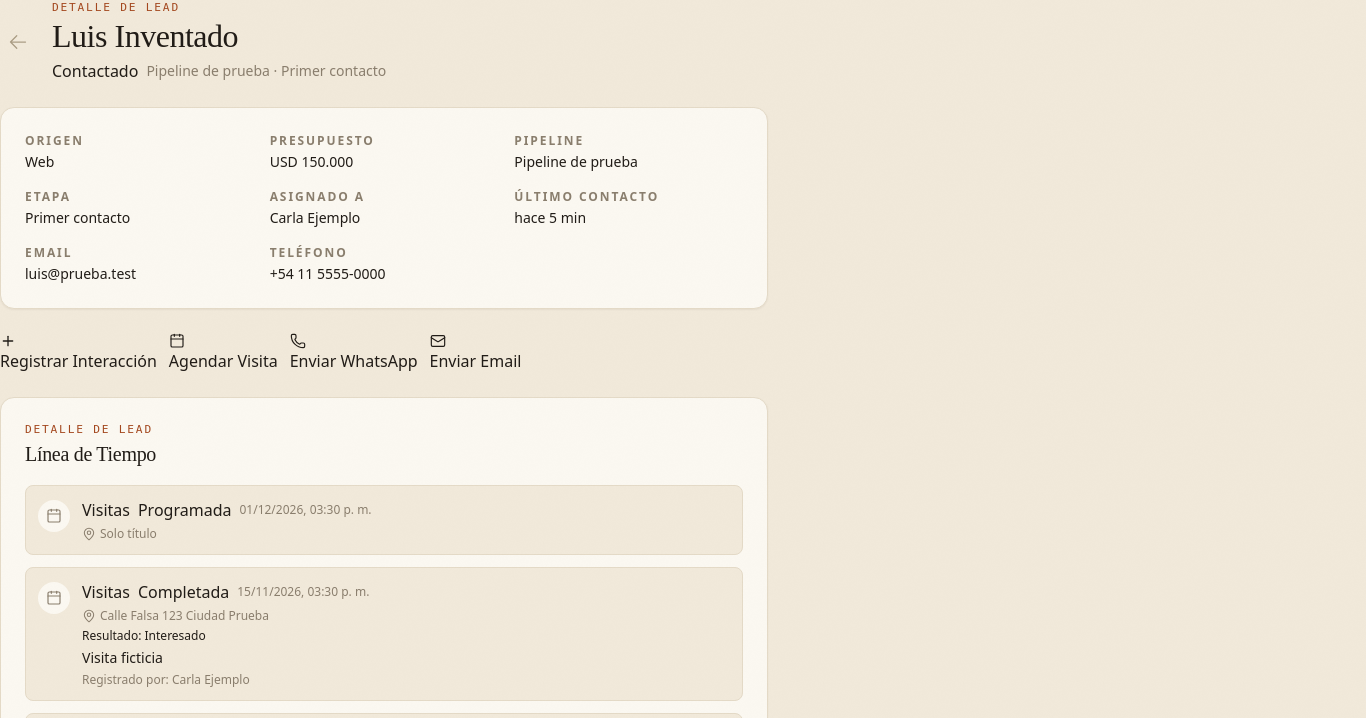
it: LeadDetailPage › agenda una visita
Expected: the heading "Luis Inventado" is shown, 52,18 -> 238,54
Step 1. Click the button "Agendar Visita" → click(223, 353), box 169,333 -> 278,373
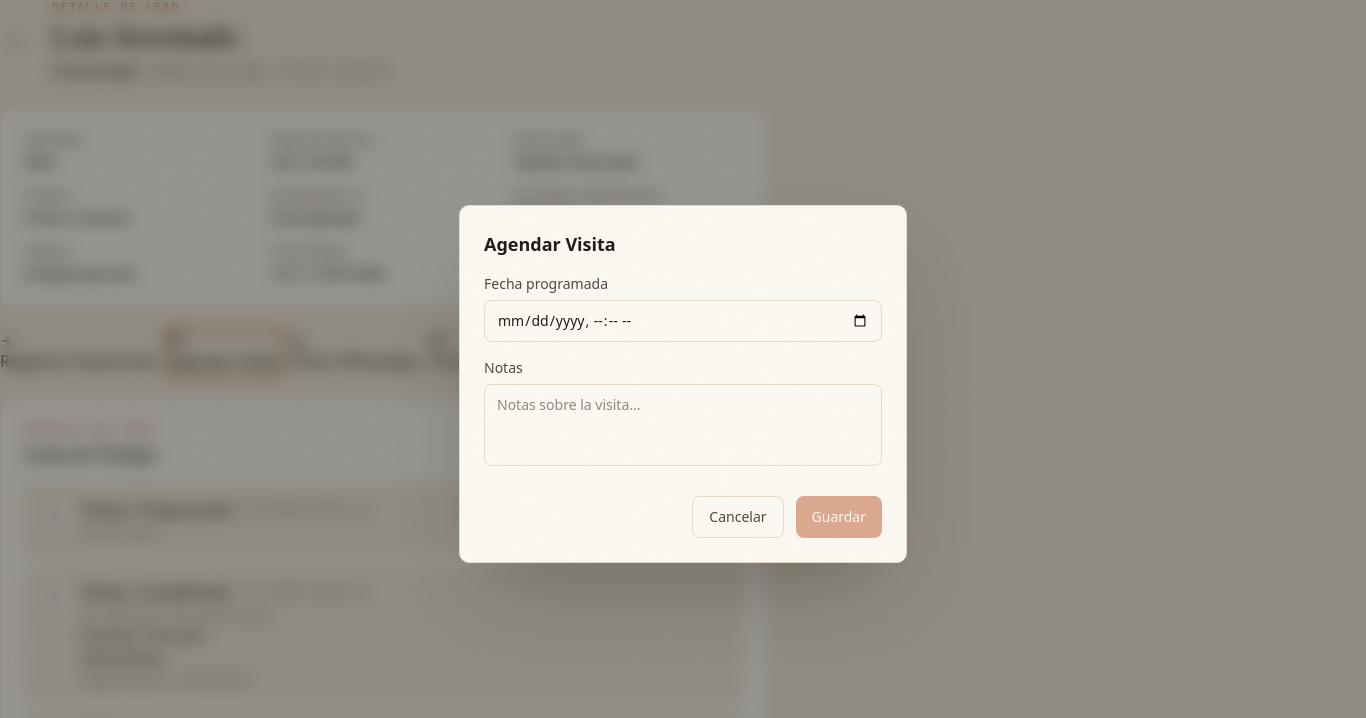
Now the button "Guardar" is disabled, box 796,496 -> 882,538
Step 2. Type "2026-12-10T10:00" into the field → (683, 321), box 484,300 -> 882,342
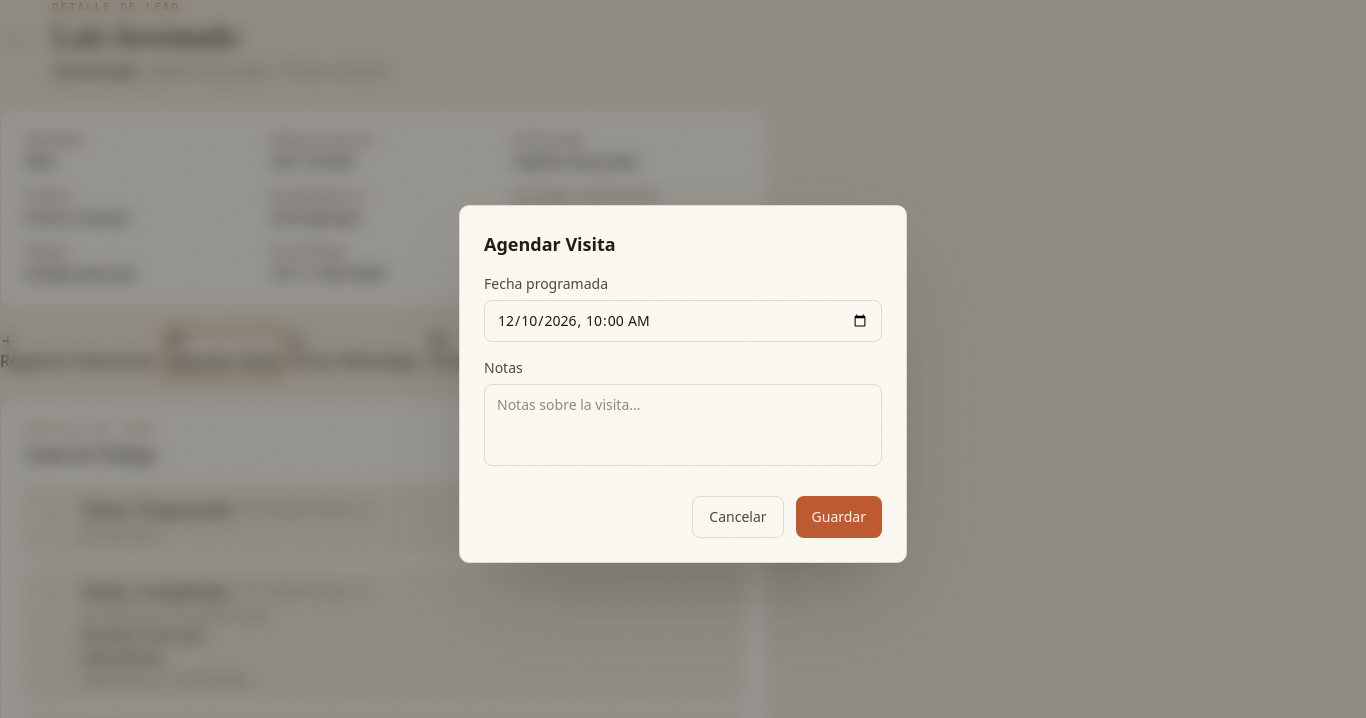
Step 3. Type "Traer llaves" into the text box with placeholder "Notas sobre la visita..." → (683, 425), box 484,384 -> 882,466
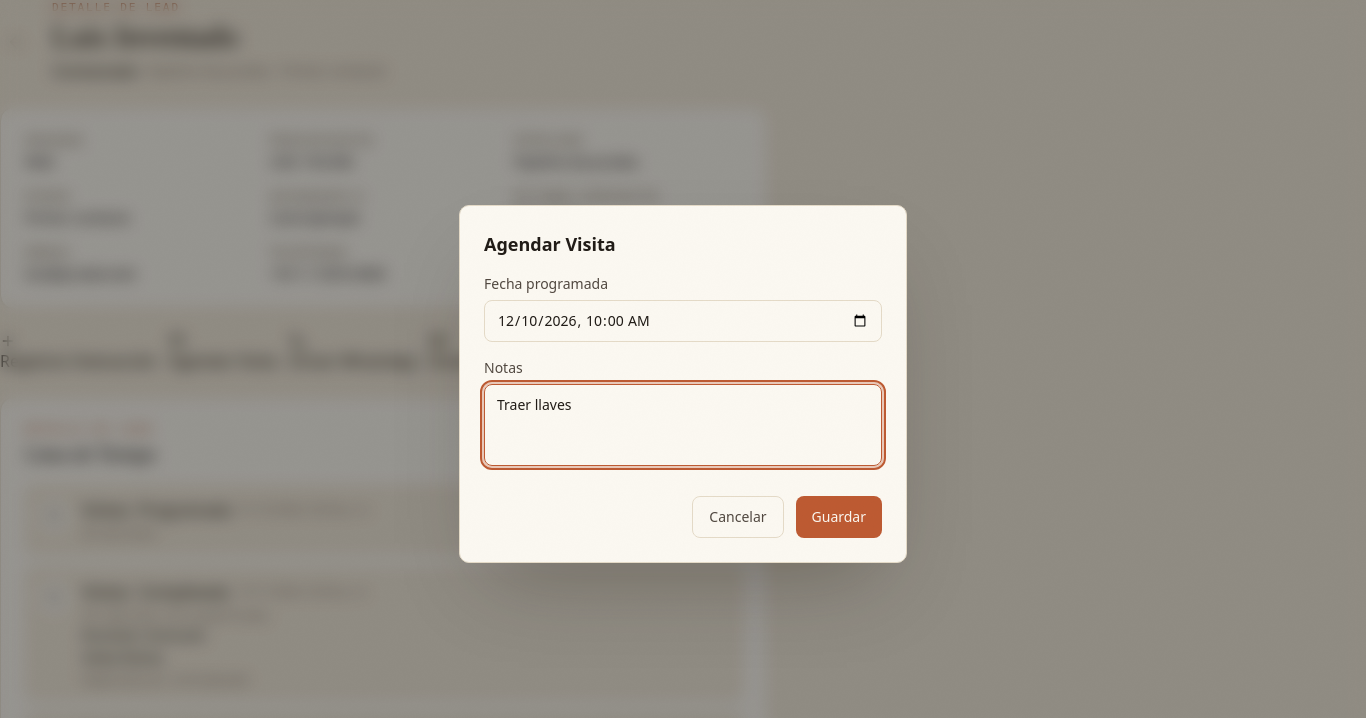
Step 4. Click the button "Guardar" → click(839, 517), box 796,496 -> 882,538
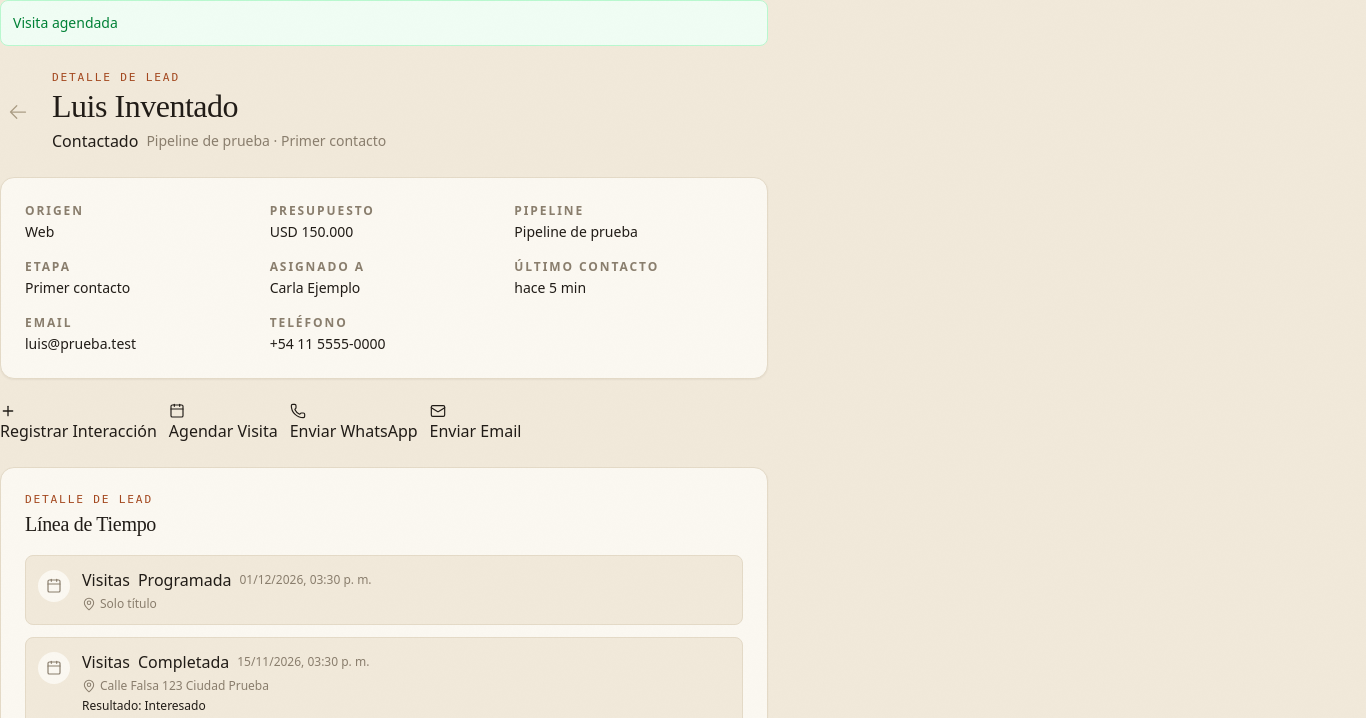
Now the text "Visita agendada" is shown, box 0,0 -> 768,46
